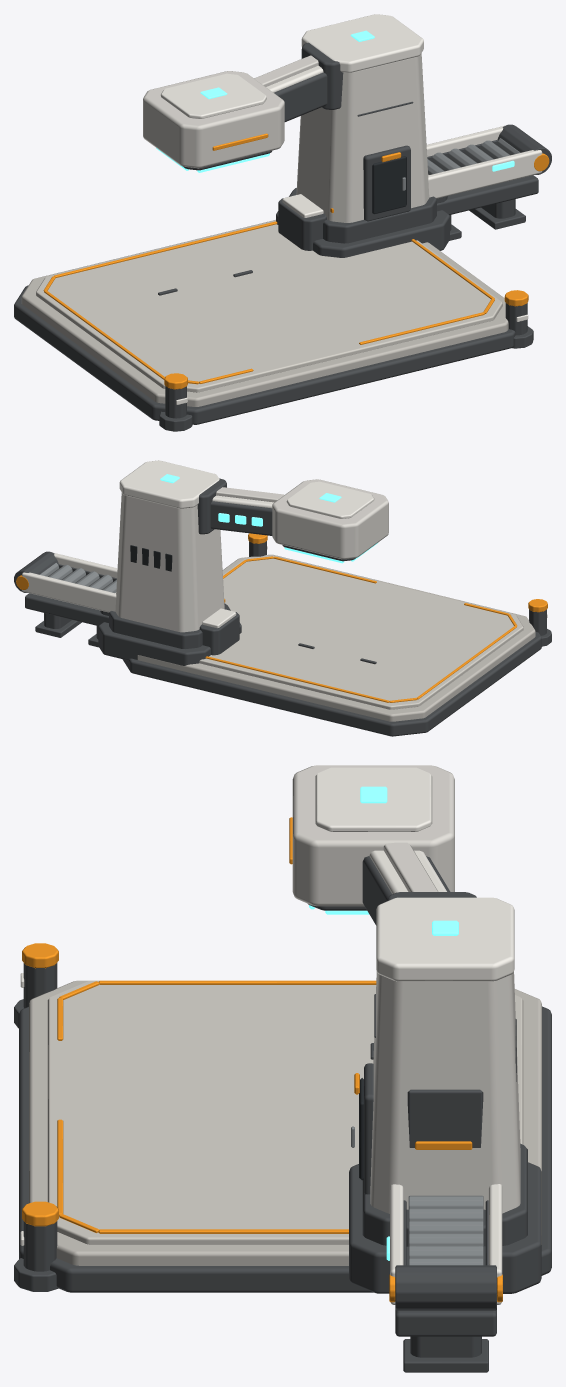
The model's file is BaseStation_StaticExtractor_V2.fbx.
3 views of the same model, one above another, from view 1: azimuth 30°, elevation 25°; view 2: azimuth 150°, elevation 25°; view 3: azimuth 270°, elevation 25° (orthographic). The views are drawn at different scales.
Parts seen in each view (by area): view 1: BS_Station_GEO; view 2: BS_Station_GEO; view 3: BS_Station_GEO.
Boxes of the visible parts, x1,y1,x2,y2 form: BS_Station_GEO: [14, 14, 551, 431]; BS_Station_GEO: [14, 460, 551, 736]; BS_Station_GEO: [14, 765, 551, 1372].
Size of the model in its own units: 11.39 by 4.72 by 6.76.
